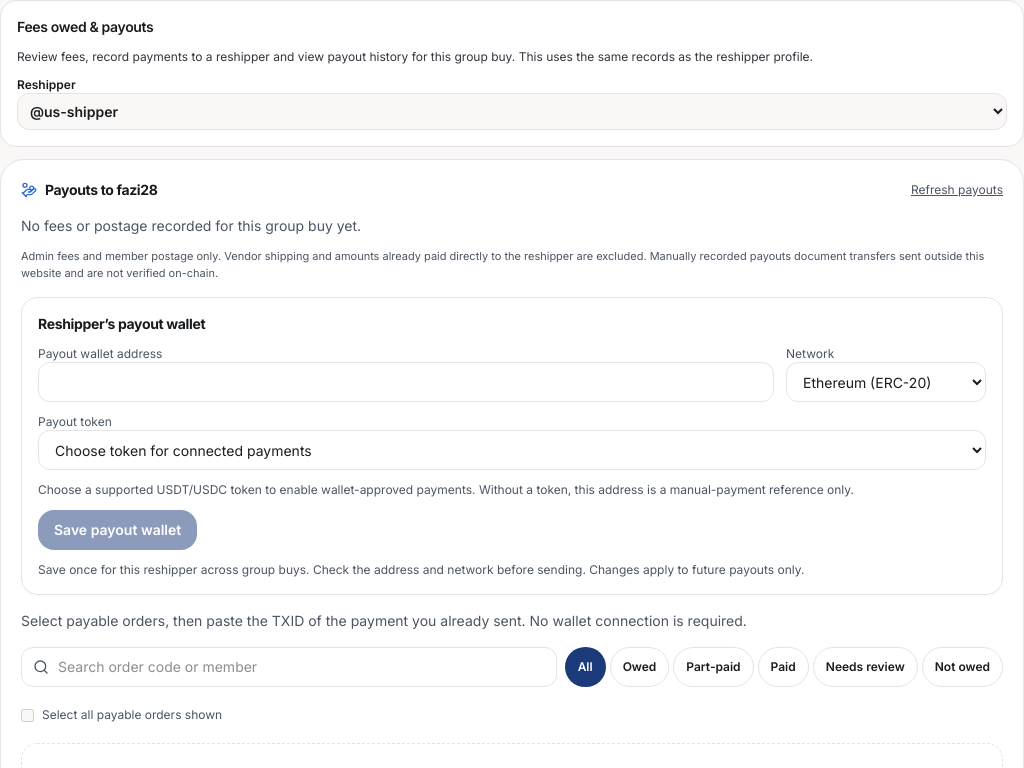
Scenario: opens payouts for the current group buy without a second group-buy selector
This screenshot has width=1024, height=768.
Select "@us-shipper" in the dropdown labelled "Reshipper": (512, 112) [17, 93, 1007, 130]
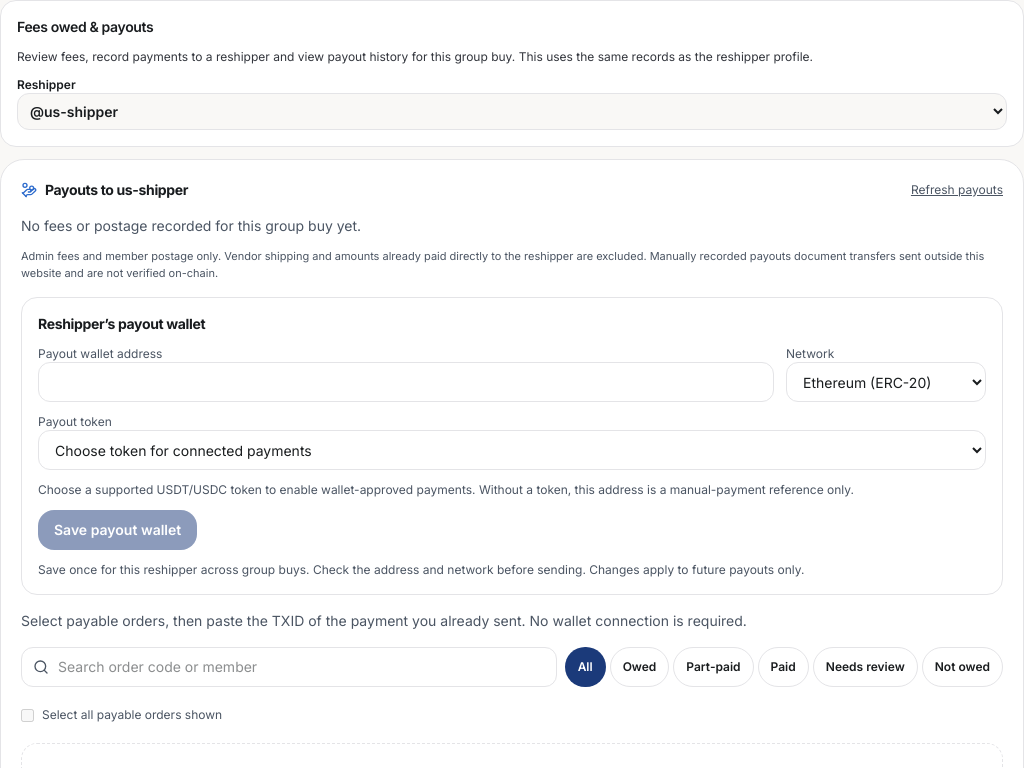
Expected: the text "Payouts to us-shipper" is shown, [21, 180, 188, 200]
